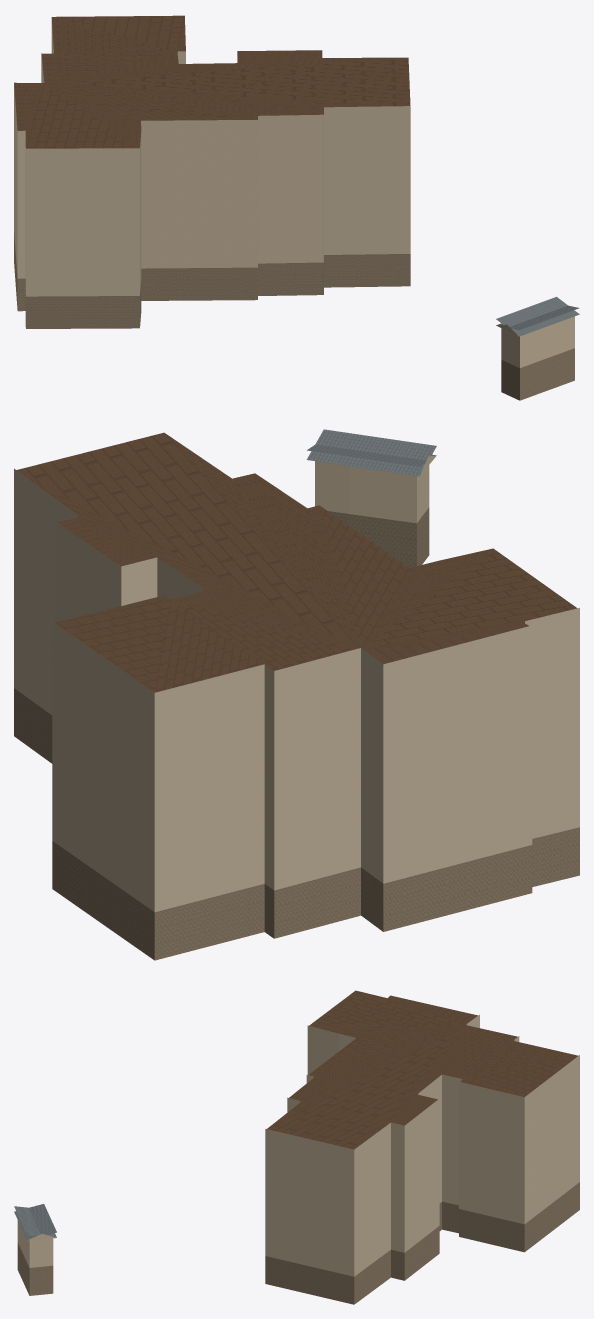
Rendered from bld_c1_-3_552.gltf.
The picture shows the model from 3 angles, top to bottom: view 1: azimuth 30°, elevation 25°; view 2: azimuth 150°, elevation 25°; view 3: azimuth 270°, elevation 25°; orthographic projection. The views are drawn at different scales.
Visible parts, largest first — view 1: bld_c1_-3_552; view 2: bld_c1_-3_552; view 3: bld_c1_-3_552.
Boxes of the visible parts, x1,y1,x2,y2 form: bld_c1_-3_552: (14,15,579,400); bld_c1_-3_552: (14,429,579,960); bld_c1_-3_552: (14,990,579,1304).
Size of the model in its own units: 62.69 by 28.38 by 93.47.
Materials: 5 (5 with a texture image).
